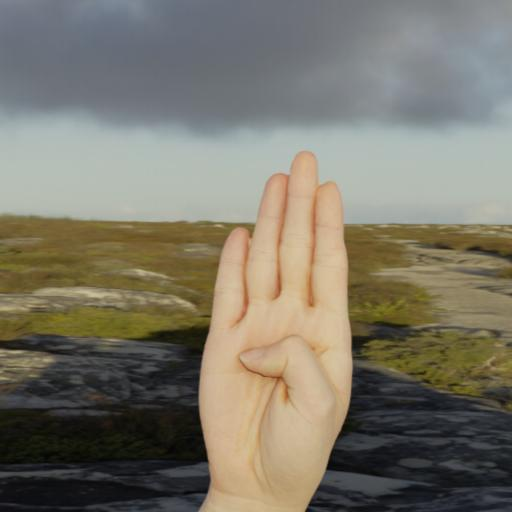B: (162, 133, 422, 512)
